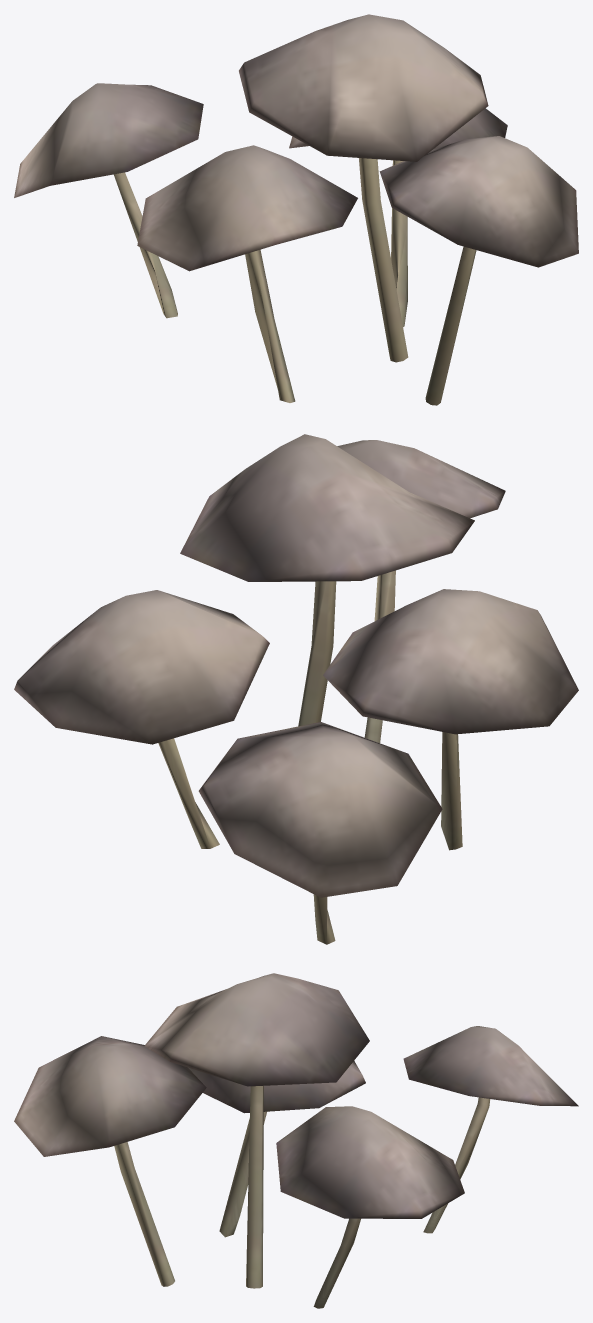
Rendered from cogumelo.glb.
3 views of the same model, one above another, from view 1: azimuth 30°, elevation 25°; view 2: azimuth 150°, elevation 25°; view 3: azimuth 270°, elevation 25° (orthographic). The views are drawn at different scales.
Visible parts, largest first — view 1: Mushroom_Common; view 2: Mushroom_Common; view 3: Mushroom_Common.
Boxes of the visible parts, x1,y1,x2,y2 form: Mushroom_Common: (14,14,578,405); Mushroom_Common: (14,434,578,944); Mushroom_Common: (14,973,578,1308).
Bounding box in the file's own units: 0.5637 × 0.4635 × 0.7791.
Materials: 1 (1 with a texture image).
